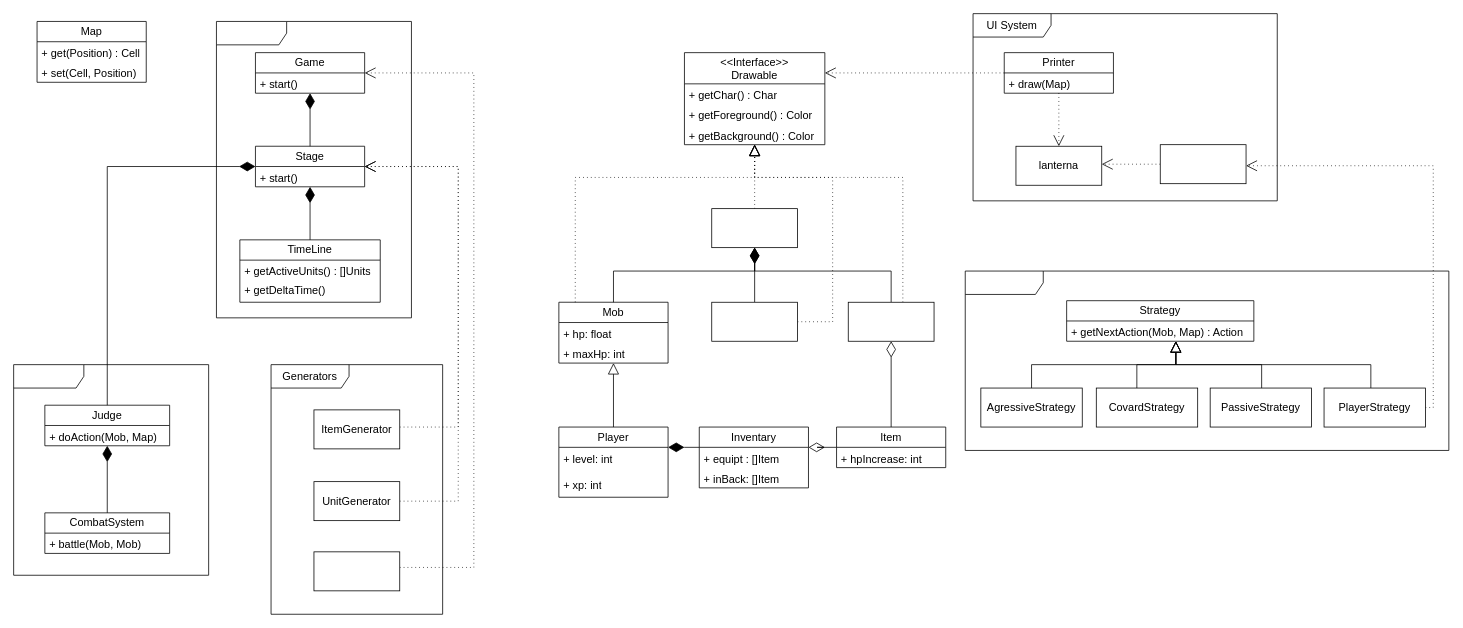
Image size: 1463x628. Some labels were removed from this diagram. Here are the shapes that lost their labels. From the top down, the centre of each, then its label:
the point at 313,169: GameEngine
the point at 1202,164: InputAdapter
the point at 754,228: Cell
the point at 754,321: Wall
the point at 890,321: Floor
the point at 1206,360: AI System
the point at 111,469: GameLogic
the point at 356,571: MapGenerator
